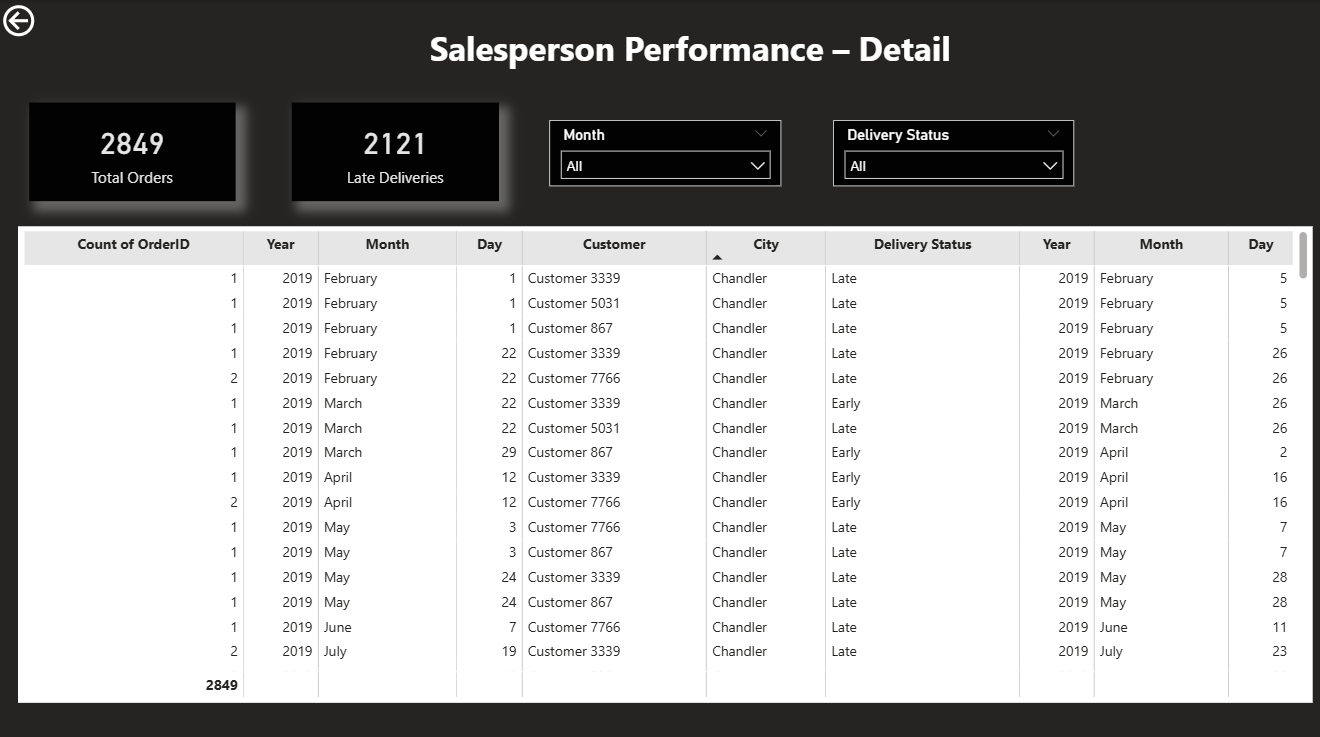

What the dashboard file says about the page in this screenshot:
{"tool":"powerbi","page":{"name":"Salesperson Detail","canvas":[1280,720],"ordinal":2},"visuals":[{"type":"actionButton","box":[0,0,100,40],"z":0},{"type":"card","fields":{"Values":["Orders.Total Orders"]},"box":[30.2,98.9,199.1,95.3],"z":1000},{"type":"card","fields":{"Values":["Orders.Late Deliveries"]},"box":[283.9,98.9,200.3,95.3],"z":2000},{"type":"tableEx","fields":{"Values":["CountNonNull(Orders.OrderID)","Orders.OrderDate.Variation.Date Hierarchy.Year","Orders.OrderDate.Variation.Date Hierarchy.Month","Orders.OrderDate.Variation.Date Hierarchy.Day","Customer.Customer","City.City","Orders.Delivery Status","Orders.ScheduledDeliveryDate.Variation.Date Hierarchy.Year","Orders.ScheduledDeliveryDate.Variation.Date Hierarchy.Month","Orders.ScheduledDeliveryDate.Variation.Date Hierarchy.Day"]},"box":[19.3,218.4,1249.9,459.7],"z":3000},{"type":"textbox","box":[64.8,19.6,1205.7,61.1],"z":4000},{"type":"slicer","fields":{"Values":["Orders.OrderDate.Variation.Date Hierarchy.Month"]},"box":[532,115.8,224.4,63.9],"z":5000},{"type":"slicer","fields":{"Values":["Orders.Delivery Status"]},"box":[805.9,115.8,232.8,63.9],"z":6000}]}

Visuals, with their boxes in screenshot pixels (x1, y1, x2, y2), scaled from the page's 1280x720 canvas onto the 1320x737 screenshot:
actionButton: region(0, 0, 103, 41)
card - Orders.Total Orders: region(31, 101, 236, 199)
card - Orders.Late Deliveries: region(293, 101, 499, 199)
tableEx - CountNonNull(Orders.OrderID) x Orders.OrderDate.Variation.Date Hierarchy.Year: region(20, 224, 1309, 694)
textbox: region(67, 20, 1310, 83)
slicer - Orders.OrderDate.Variation.Date Hierarchy.Month: region(549, 119, 780, 184)
slicer - Orders.Delivery Status: region(831, 119, 1071, 184)
